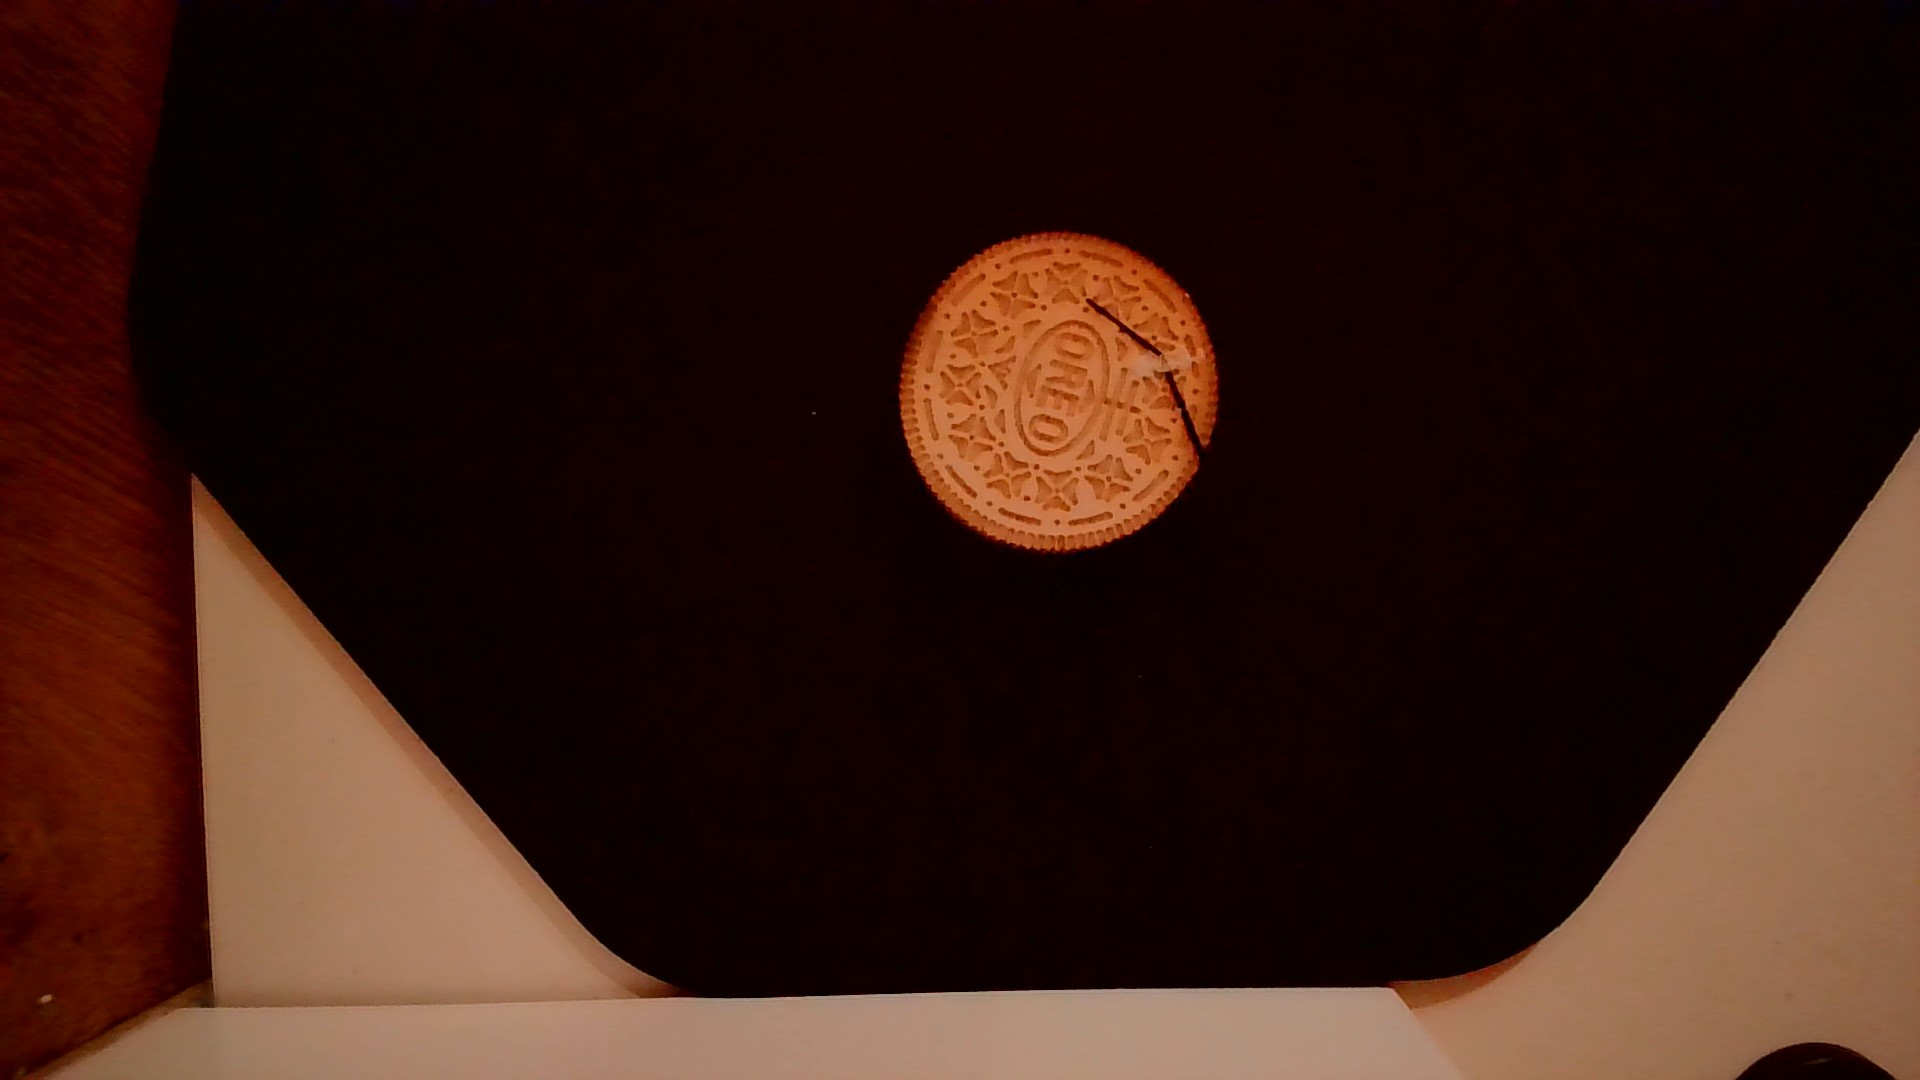Fissure: (1068, 287, 1208, 471)
Oréo: (887, 225, 1234, 571)
